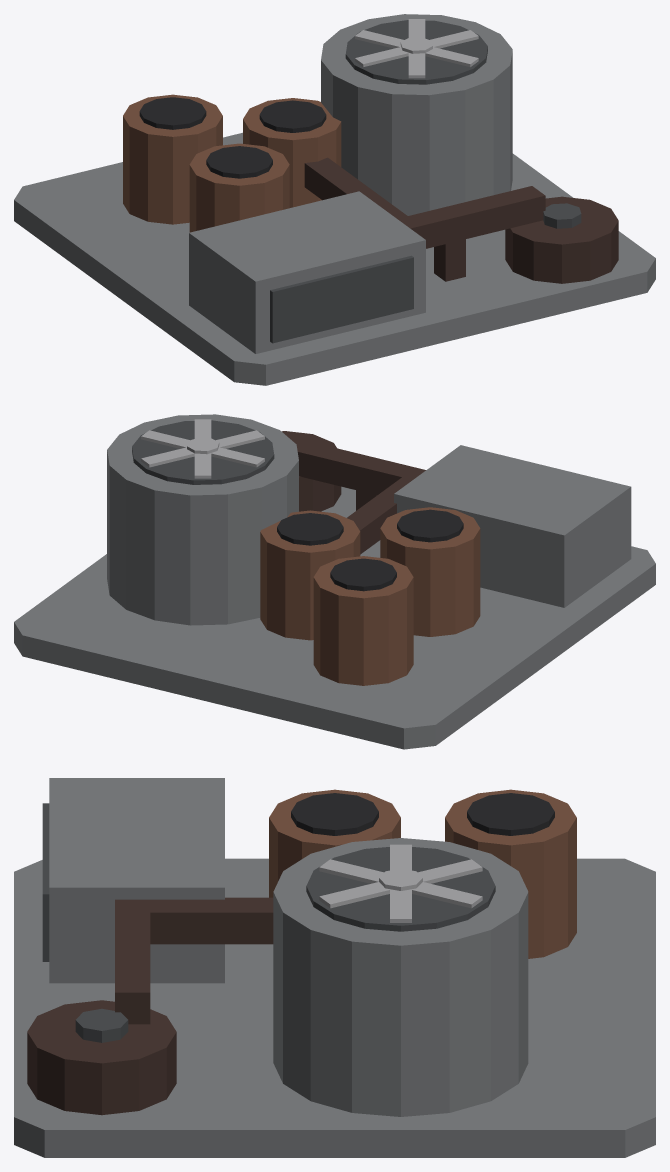
Rendered from atmospheric_heater.obj.
3 views of the same model, one above another, from view 1: azimuth 30°, elevation 25°; view 2: azimuth 150°, elevation 25°; view 3: azimuth 270°, elevation 25° (orthographic). The views are drawn at different scales.
Visible parts, largest first — view 1: atmospheric_heater_0, atmospheric_heater_1, atmospheric_heater_13, atmospheric_heater_7, atmospheric_heater_14, atmospheric_heater_18, atmospheric_heater_11, atmospheric_heater_16, atmospheric_heater_2, atmospheric_heater_9, atmospheric_heater_15, atmospheric_heater_8 (+7 smaller); view 2: atmospheric_heater_0, atmospheric_heater_1, atmospheric_heater_13, atmospheric_heater_7, atmospheric_heater_11, atmospheric_heater_9, atmospheric_heater_2, atmospheric_heater_16, atmospheric_heater_15, atmospheric_heater_10, atmospheric_heater_12, atmospheric_heater_8 (+4 smaller); view 3: atmospheric_heater_0, atmospheric_heater_1, atmospheric_heater_13, atmospheric_heater_18, atmospheric_heater_7, atmospheric_heater_2, atmospheric_heater_15, atmospheric_heater_11, atmospheric_heater_16, atmospheric_heater_12, atmospheric_heater_8, atmospheric_heater_5 (+5 smaller).
Part boxes in pixels (bbox=[...]): atmospheric_heater_0: bbox=[14, 132, 655, 385]; atmospheric_heater_1: bbox=[321, 14, 512, 215]; atmospheric_heater_13: bbox=[189, 191, 425, 353]; atmospheric_heater_7: bbox=[123, 94, 222, 224]; atmospheric_heater_14: bbox=[270, 255, 413, 343]; atmospheric_heater_18: bbox=[505, 196, 618, 283]; atmospheric_heater_11: bbox=[189, 143, 289, 232]; atmospheric_heater_16: bbox=[400, 186, 545, 248]; atmospheric_heater_2: bbox=[345, 20, 487, 84]; atmospheric_heater_9: bbox=[243, 98, 341, 207]; atmospheric_heater_15: bbox=[304, 157, 421, 235]; atmospheric_heater_8: bbox=[139, 97, 206, 129]; atmospheric_heater_0: bbox=[14, 486, 655, 749]; atmospheric_heater_1: bbox=[107, 414, 298, 625]; atmospheric_heater_13: bbox=[394, 445, 631, 607]; atmospheric_heater_7: bbox=[313, 556, 413, 685]; atmospheric_heater_11: bbox=[380, 507, 480, 636]; atmospheric_heater_9: bbox=[260, 510, 360, 640]; atmospheric_heater_2: bbox=[132, 420, 274, 484]; atmospheric_heater_16: bbox=[290, 437, 424, 495]; atmospheric_heater_15: bbox=[347, 467, 425, 554]; atmospheric_heater_10: bbox=[277, 513, 343, 545]; atmospheric_heater_12: bbox=[397, 509, 463, 542]; atmospheric_heater_8: bbox=[330, 558, 396, 591]; atmospheric_heater_0: bbox=[14, 858, 655, 1157]; atmospheric_heater_1: bbox=[273, 838, 528, 1116]; atmospheric_heater_13: bbox=[49, 778, 224, 983]; atmospheric_heater_18: bbox=[27, 1000, 176, 1115]; atmospheric_heater_7: bbox=[445, 789, 576, 958]; atmospheric_heater_2: bbox=[306, 847, 495, 931]; atmospheric_heater_15: bbox=[115, 897, 273, 944]; atmospheric_heater_11: bbox=[269, 789, 400, 897]; atmospheric_heater_16: bbox=[115, 900, 150, 1024]; atmospheric_heater_12: bbox=[291, 793, 378, 835]; atmospheric_heater_8: bbox=[467, 793, 554, 835]; atmospheric_heater_5: bbox=[319, 859, 482, 908].
Bounding box in the file's own units: 2.92 × 1.07 × 2.92.
